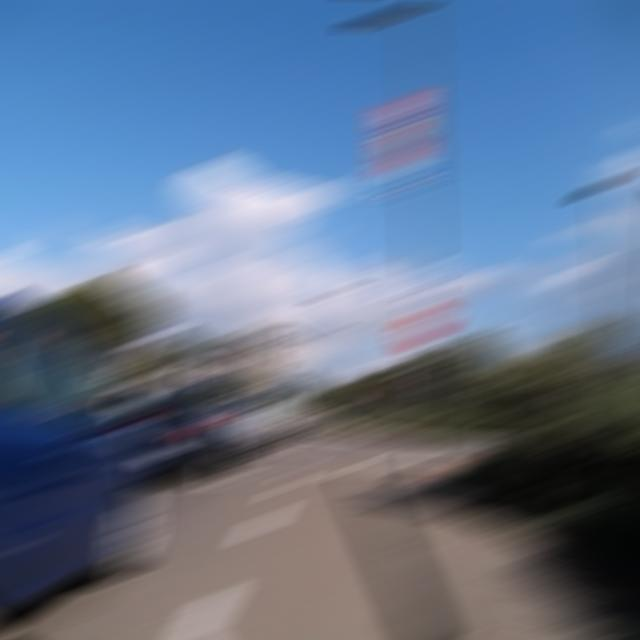stop: (400, 308, 449, 344)
